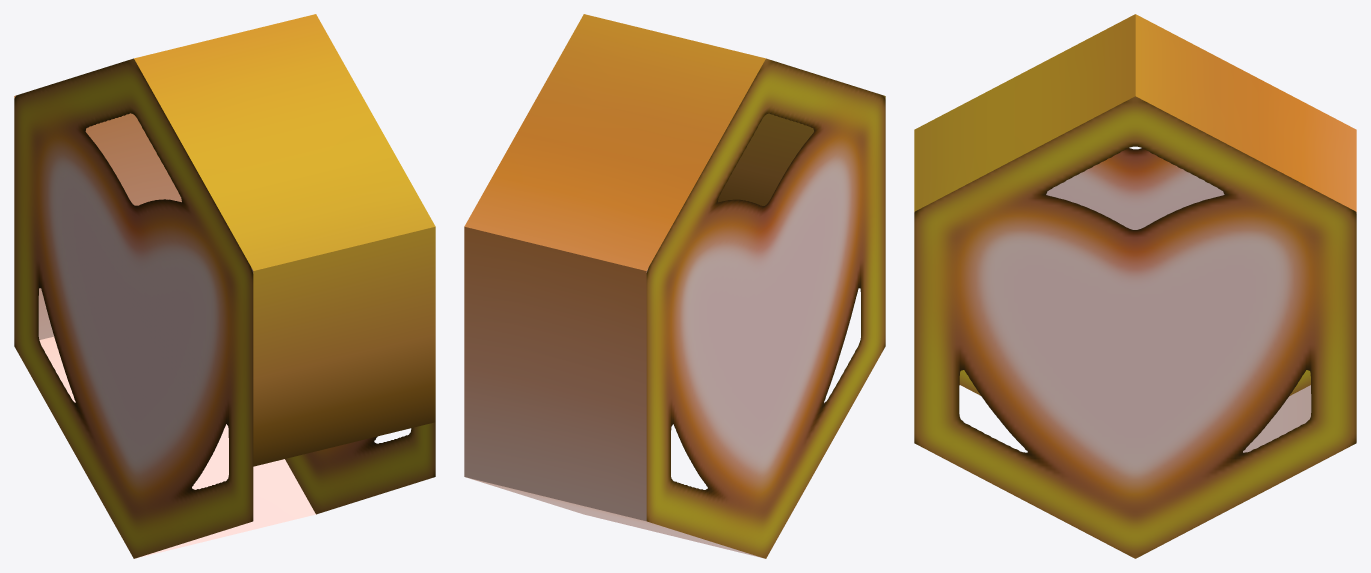
Rendered from prp_health_container.fbx.
3 views of the same model, side by side, from view 1: azimuth 30°, elevation 25°; view 2: azimuth 150°, elevation 25°; view 3: azimuth 270°, elevation 25° (orthographic). The views are drawn at different scales.
Visible parts, largest first — view 1: prp_health_container; view 2: prp_health_container; view 3: prp_health_container.
Boxes of the visible parts, x1,y1,x2,y2 form: prp_health_container: (14, 14, 435, 558); prp_health_container: (464, 14, 885, 558); prp_health_container: (914, 14, 1356, 558).
Bounding box in the file's own units: 0.3809 × 1 × 0.866.
